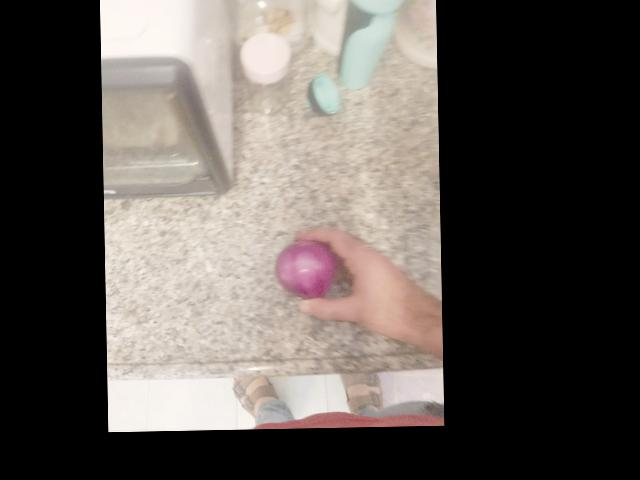onion: (97, 154, 179, 238)
